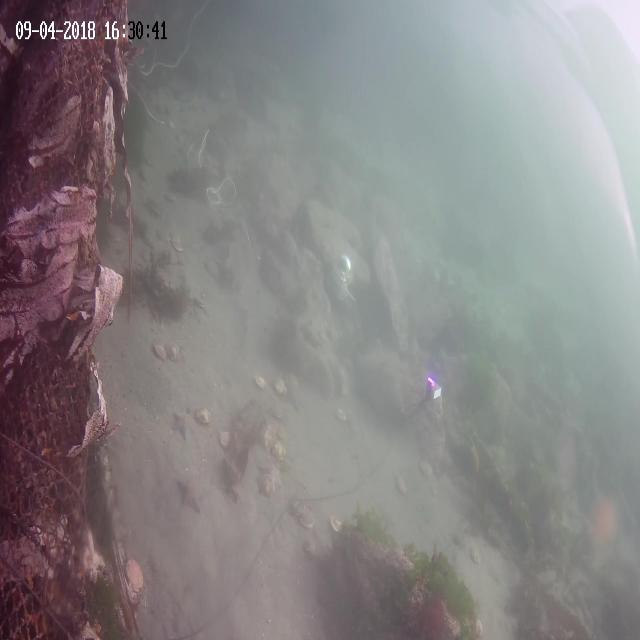scallop: (124, 554, 146, 597), (258, 474, 276, 504), (328, 509, 347, 537), (288, 493, 308, 516), (259, 423, 276, 449), (194, 402, 210, 427), (395, 474, 410, 500), (202, 256, 218, 280), (220, 426, 236, 450), (168, 232, 184, 256), (164, 338, 180, 361), (452, 526, 466, 552), (418, 455, 434, 477), (152, 338, 166, 362), (300, 509, 316, 530), (273, 438, 286, 462), (284, 373, 299, 393), (271, 377, 284, 400), (254, 372, 268, 390)
starfish: (584, 485, 626, 556), (176, 475, 206, 516), (170, 407, 193, 443), (302, 314, 322, 348)
